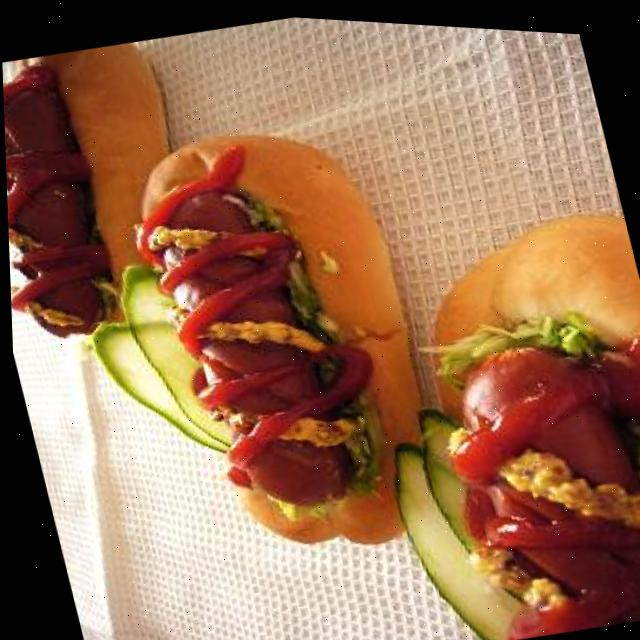汉堡快餐: (51, 101, 479, 609), (327, 178, 640, 640), (1, 32, 215, 366)
